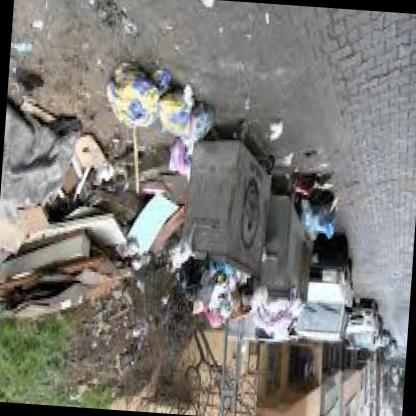Garbage: (102, 60, 196, 150), (172, 260, 260, 330), (292, 169, 340, 240), (254, 294, 298, 334)
